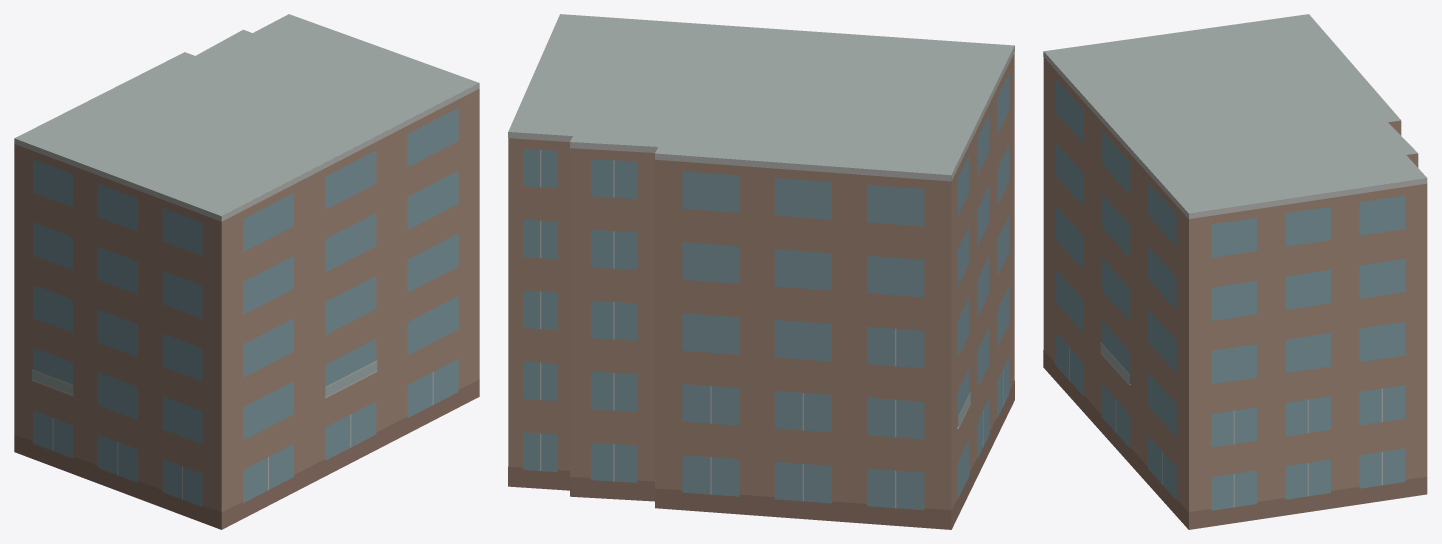
The model's file is survey-upis-32843936.glb.
The picture shows the model from 3 angles, left to right: view 1: azimuth 30°, elevation 25°; view 2: azimuth 150°, elevation 25°; view 3: azimuth 270°, elevation 25°; orthographic projection. The views are drawn at different scales.
Parts seen in each view (by area): view 1: survey-upis-32843936.tmp; view 2: survey-upis-32843936.tmp; view 3: survey-upis-32843936.tmp.
Part boxes in pixels (box(x1,y1,x2,y2)): survey-upis-32843936.tmp: box(14, 14, 479, 529); survey-upis-32843936.tmp: box(508, 14, 1014, 529); survey-upis-32843936.tmp: box(1043, 14, 1427, 529).
Size of the model in its own units: 18.87 by 13.93 by 15.34.
